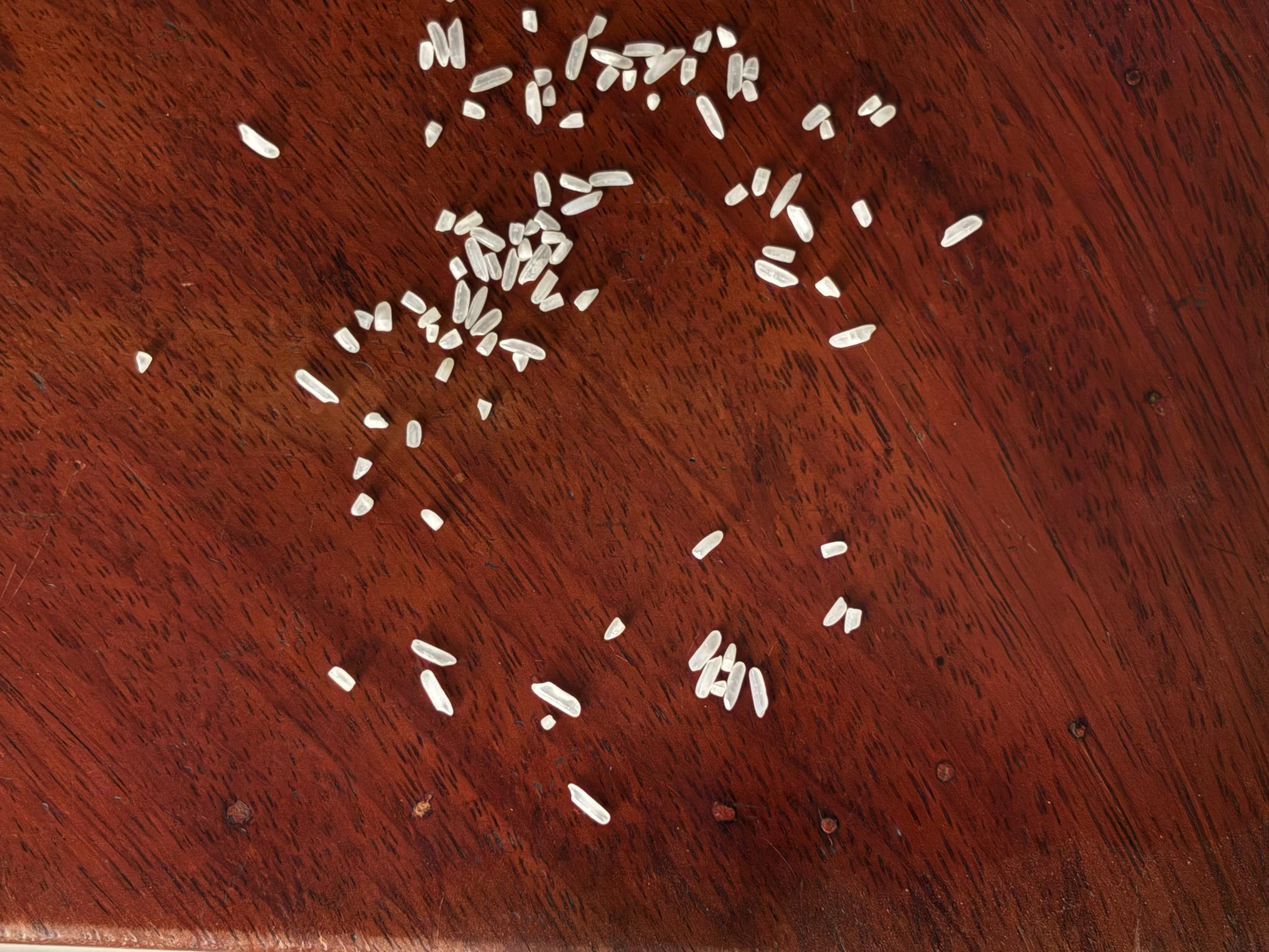Rice-th-y-nh: (567, 780, 611, 828), (531, 680, 583, 719), (417, 668, 456, 718), (767, 170, 804, 220), (753, 253, 798, 294), (829, 317, 876, 356), (941, 209, 983, 252), (693, 93, 729, 142), (642, 45, 685, 84), (688, 628, 724, 674), (560, 184, 603, 222), (743, 667, 775, 718), (692, 652, 726, 700), (718, 660, 749, 712), (441, 18, 472, 69), (517, 242, 552, 286), (560, 34, 592, 82), (238, 123, 280, 159), (783, 202, 818, 245), (719, 52, 750, 99), (409, 638, 456, 669), (295, 370, 339, 403), (588, 163, 634, 194), (468, 64, 514, 95), (463, 237, 490, 283), (463, 285, 490, 331), (447, 280, 475, 324), (497, 248, 525, 291), (622, 35, 665, 63), (426, 21, 452, 67), (520, 81, 547, 125), (529, 269, 560, 306), (503, 336, 547, 362), (468, 225, 506, 253), (690, 529, 724, 560), (468, 308, 503, 337), (529, 171, 556, 208), (592, 48, 634, 71), (749, 165, 775, 198), (558, 171, 593, 195), (801, 103, 831, 131), (453, 209, 484, 236), (822, 596, 848, 628), (761, 242, 797, 265), (849, 198, 875, 229), (327, 666, 357, 692), (572, 286, 600, 313), (723, 180, 749, 209), (549, 237, 574, 267), (677, 55, 701, 86), (718, 642, 741, 674), (595, 64, 620, 93), (533, 208, 562, 233), (819, 537, 848, 562), (481, 250, 504, 281), (460, 96, 487, 122), (841, 606, 865, 635), (334, 326, 360, 352), (869, 104, 897, 128), (815, 275, 842, 299), (422, 120, 445, 148), (415, 41, 437, 70), (857, 93, 882, 118), (401, 290, 427, 314), (740, 55, 763, 82), (373, 301, 393, 332), (351, 492, 375, 517), (539, 291, 565, 314), (438, 328, 464, 351), (540, 227, 567, 249), (419, 508, 444, 531), (505, 221, 528, 246), (434, 357, 456, 383), (586, 14, 608, 40), (560, 110, 586, 132), (715, 25, 738, 49), (604, 616, 626, 641), (476, 332, 498, 357), (520, 8, 541, 34), (417, 306, 440, 329), (740, 79, 761, 104), (692, 29, 713, 54), (531, 65, 553, 88), (448, 257, 469, 281), (515, 238, 536, 262), (405, 420, 423, 448), (435, 209, 456, 232), (619, 68, 639, 92), (363, 412, 389, 430), (352, 456, 372, 479), (511, 350, 531, 373), (475, 397, 494, 421), (353, 309, 374, 330), (541, 84, 559, 108), (817, 119, 836, 141), (522, 218, 541, 238), (709, 679, 728, 699), (135, 351, 152, 373), (539, 713, 557, 732), (645, 91, 661, 112), (425, 323, 440, 343)
